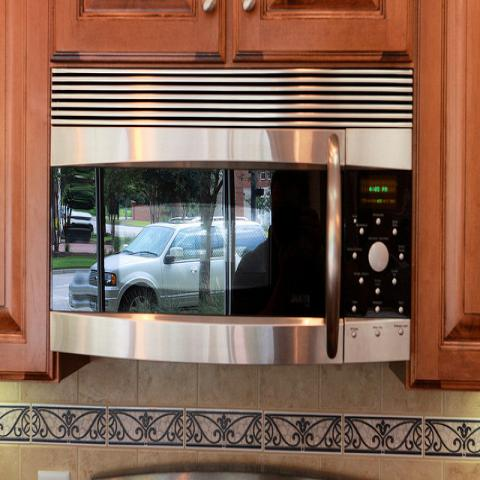car: (86, 219, 225, 312), (62, 215, 95, 237)
